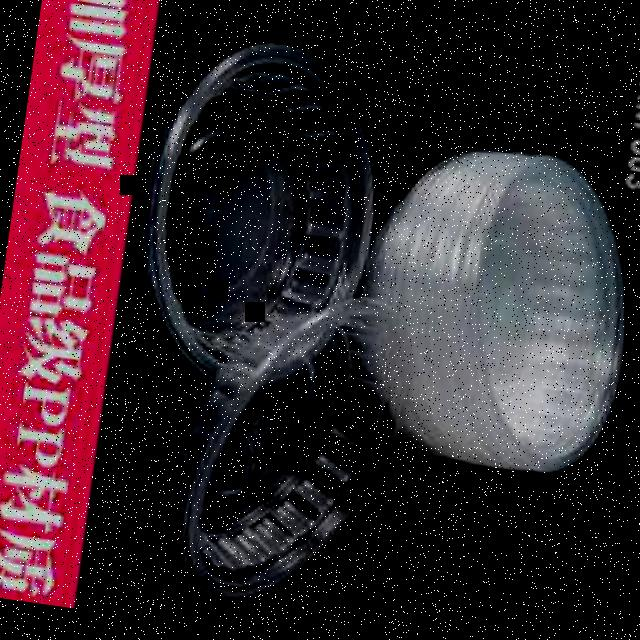plastic_box: (124, 28, 396, 394), (152, 272, 422, 618)
